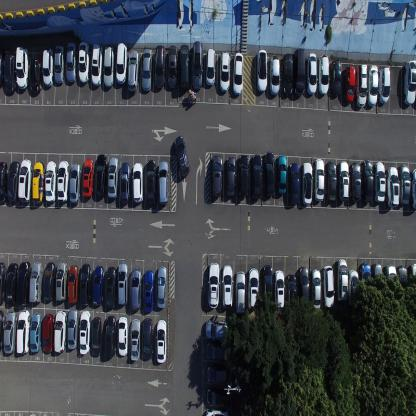car: (173, 134, 190, 178), (16, 260, 30, 308), (3, 309, 17, 354), (293, 48, 306, 96), (16, 310, 30, 354), (358, 262, 371, 308), (190, 40, 202, 89), (322, 264, 335, 308), (53, 310, 66, 354), (5, 262, 18, 306), (18, 159, 31, 203), (16, 45, 29, 89), (208, 262, 220, 309), (31, 161, 44, 204), (7, 160, 20, 203), (222, 263, 234, 309), (404, 59, 416, 105), (336, 258, 348, 304), (79, 309, 91, 355), (95, 152, 107, 198), (206, 364, 232, 385), (355, 64, 368, 106), (29, 261, 42, 303), (153, 44, 165, 89), (362, 158, 374, 203), (104, 315, 116, 360), (105, 264, 117, 309), (91, 42, 103, 87), (141, 47, 153, 92), (386, 166, 399, 207), (384, 263, 397, 304), (43, 261, 56, 302), (145, 158, 156, 206), (178, 42, 189, 90), (288, 161, 300, 205), (301, 161, 313, 205), (232, 51, 244, 95), (143, 268, 155, 312), (130, 266, 142, 310), (205, 342, 231, 362), (3, 54, 16, 94), (219, 49, 231, 92), (42, 45, 54, 88), (251, 154, 262, 200), (297, 264, 309, 306), (261, 264, 273, 306), (338, 160, 350, 202), (374, 160, 386, 202), (92, 264, 104, 306), (55, 260, 67, 302), (42, 312, 54, 354), (30, 312, 42, 354), (119, 162, 131, 204), (69, 162, 81, 204), (57, 160, 69, 202), (78, 41, 90, 83), (127, 50, 139, 92), (205, 320, 230, 340), (238, 153, 249, 198), (236, 270, 247, 315), (248, 267, 259, 312), (117, 262, 128, 307), (142, 316, 153, 361), (130, 317, 141, 362), (80, 262, 91, 307), (206, 387, 232, 406), (29, 56, 42, 94), (273, 267, 285, 308), (350, 161, 362, 202), (67, 264, 79, 305), (82, 157, 94, 198), (256, 48, 267, 92), (282, 52, 293, 96), (306, 52, 317, 96), (348, 268, 359, 312), (67, 306, 78, 350), (116, 41, 127, 85), (370, 262, 382, 302), (318, 53, 329, 96), (399, 163, 410, 206), (156, 265, 167, 308), (107, 156, 118, 199), (103, 46, 114, 89), (132, 162, 143, 204), (45, 160, 56, 202), (264, 151, 274, 197), (167, 44, 177, 90), (156, 318, 166, 364), (379, 66, 391, 104), (310, 269, 321, 310), (269, 54, 280, 95), (212, 153, 222, 198), (314, 157, 324, 202), (285, 271, 296, 311), (158, 160, 168, 204), (344, 63, 355, 103), (397, 264, 408, 304), (54, 44, 65, 84), (205, 47, 216, 86), (368, 65, 378, 107), (118, 314, 128, 356), (92, 316, 102, 357), (66, 42, 76, 83), (277, 154, 287, 194), (326, 161, 336, 200), (226, 156, 235, 199), (331, 58, 341, 96), (0, 160, 8, 205), (408, 262, 416, 305), (0, 260, 6, 304), (410, 168, 416, 210), (0, 45, 5, 83), (205, 408, 229, 415), (0, 309, 4, 351)
